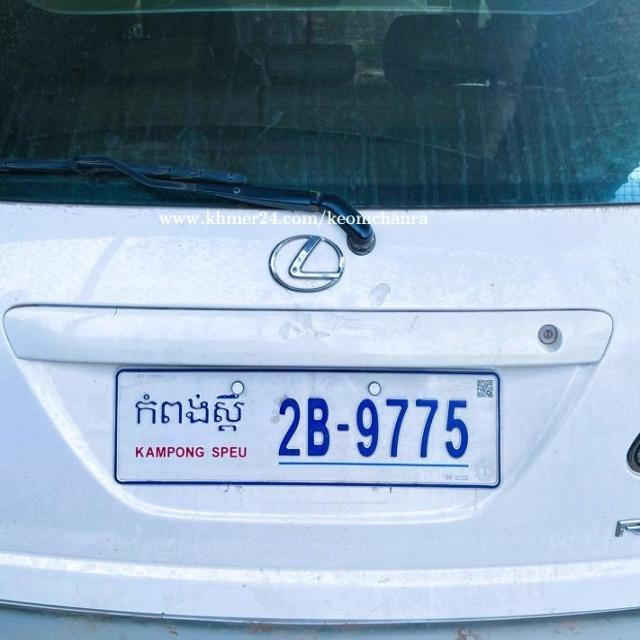Kampong_Speu: (134, 391, 246, 434)
